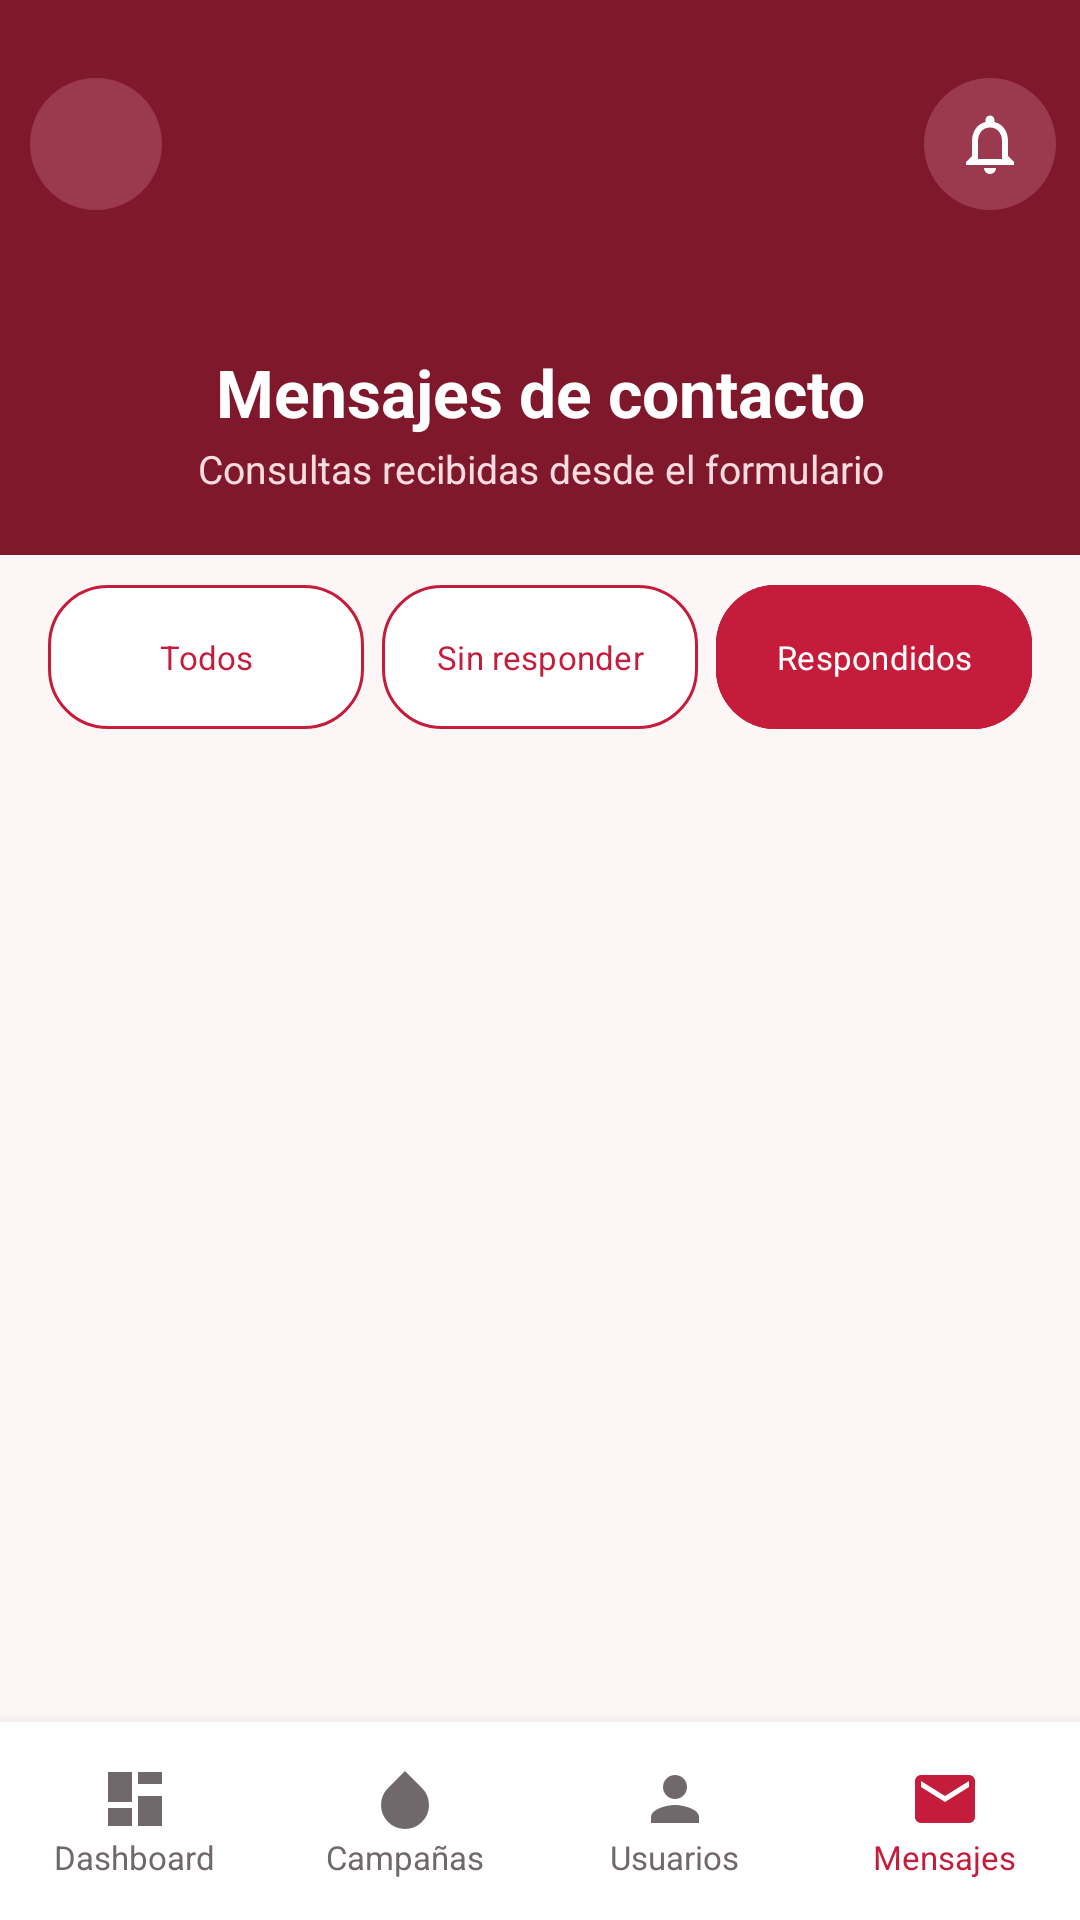

Icon bounding boxes for this 1080px x 1920px phone screenshot, format (x1=x1, y1=y1, x2=x2, y2=y2):
blood drop: (x1=381, y1=1771, x2=429, y2=1829)
Notificaciones: (x1=924, y1=78, x2=1056, y2=210)
profile: (x1=651, y1=1775, x2=699, y2=1823)
